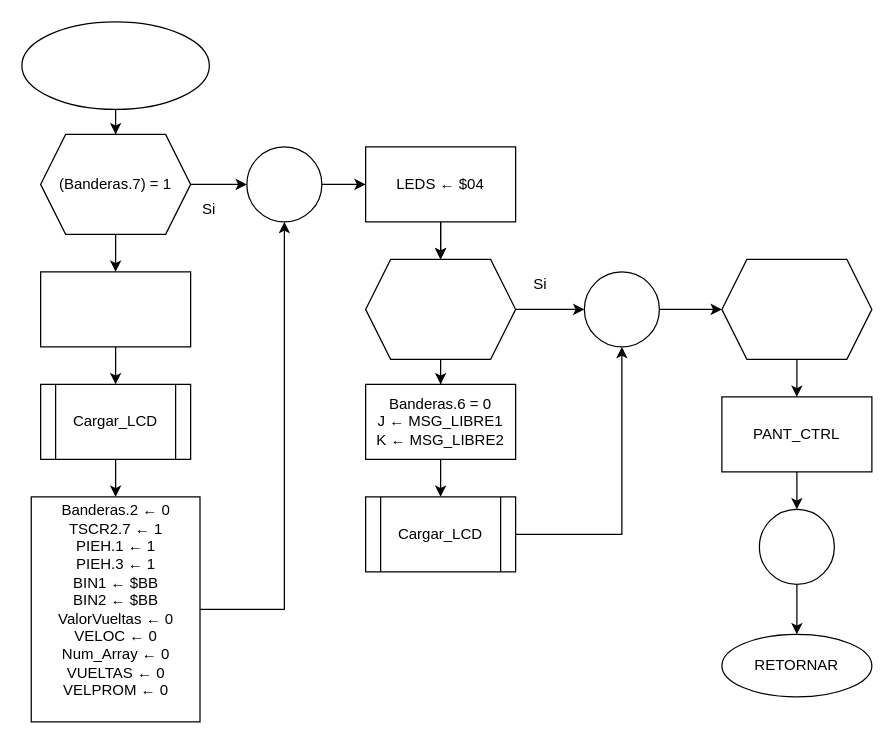
This 894x744 diagram has some shape labels left out. The box of each missing label's shape, as (x1, y1, x2, y2) in pixels:
(Banderas.6) = 0: (364, 258, 516, 359)
(VELOC) = 0: (721, 258, 872, 359)
Banderas.7 ← 1 J ← MSG_LIBRE1 K ← MSG_LIBRE2: (39, 271, 191, 347)
MODO_COMPETENCIA: (21, 21, 209, 109)
